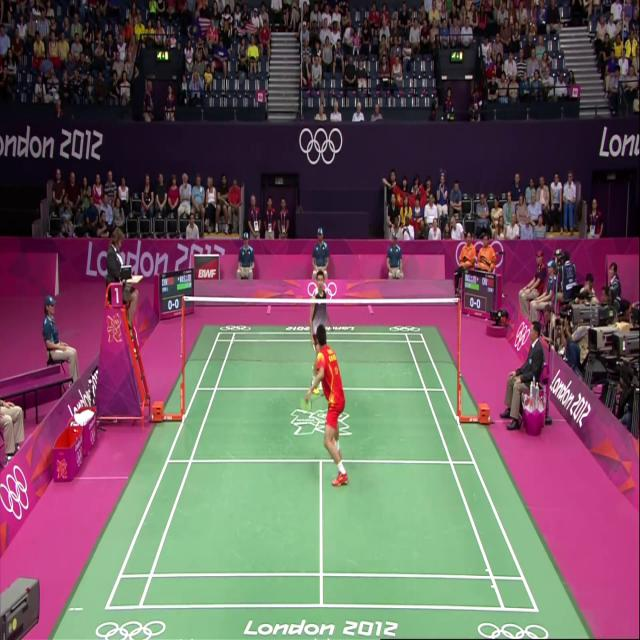Net: (180, 296, 460, 364)
Player1: (307, 321, 351, 505)
Player2: (305, 266, 334, 376)
Shuttlecock: (312, 282, 322, 296)
